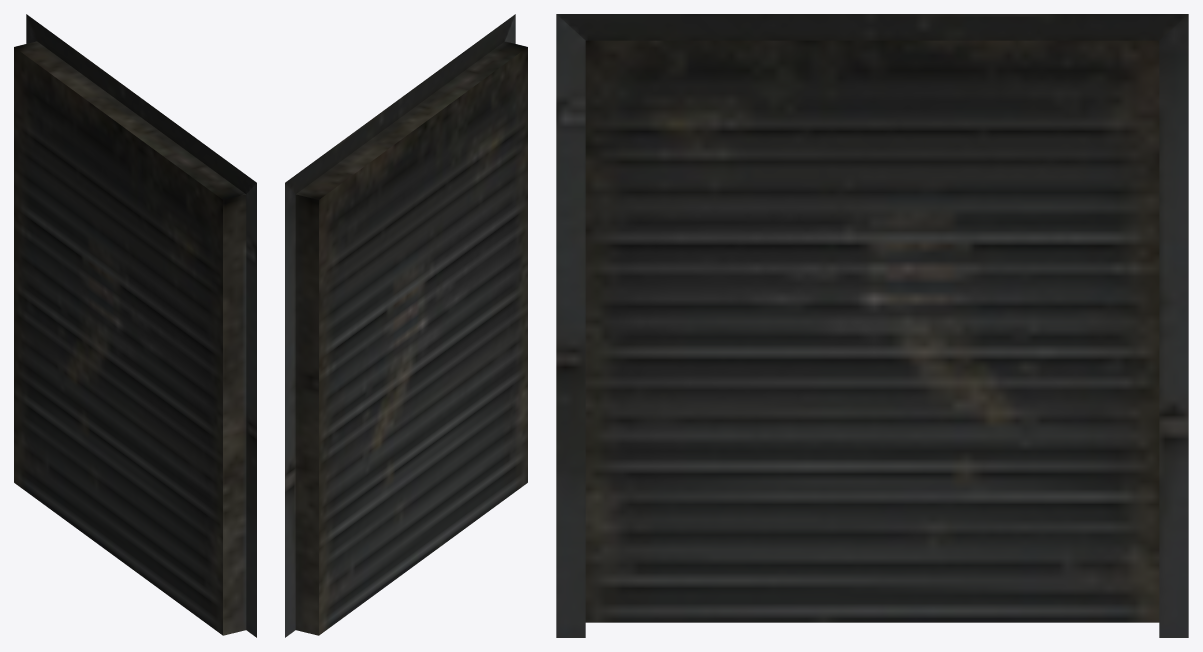
Rendered from Shutter_02.FBX.
3 renders of one model, left to right at view 1: azimuth 30°, elevation 25°; view 2: azimuth 150°, elevation 25°; view 3: azimuth 270°, elevation 25°, orthographic. The views are drawn at different scales.
Visible parts, largest first — view 1: Shutter_02; view 2: Shutter_02; view 3: Shutter_02.
Boxes of the visible parts, bbox=[...] form: Shutter_02: bbox=[14, 14, 256, 637]; Shutter_02: bbox=[285, 14, 527, 637]; Shutter_02: bbox=[556, 14, 1188, 637].
Size of the model in its own units: 18.62 by 351 by 322.
